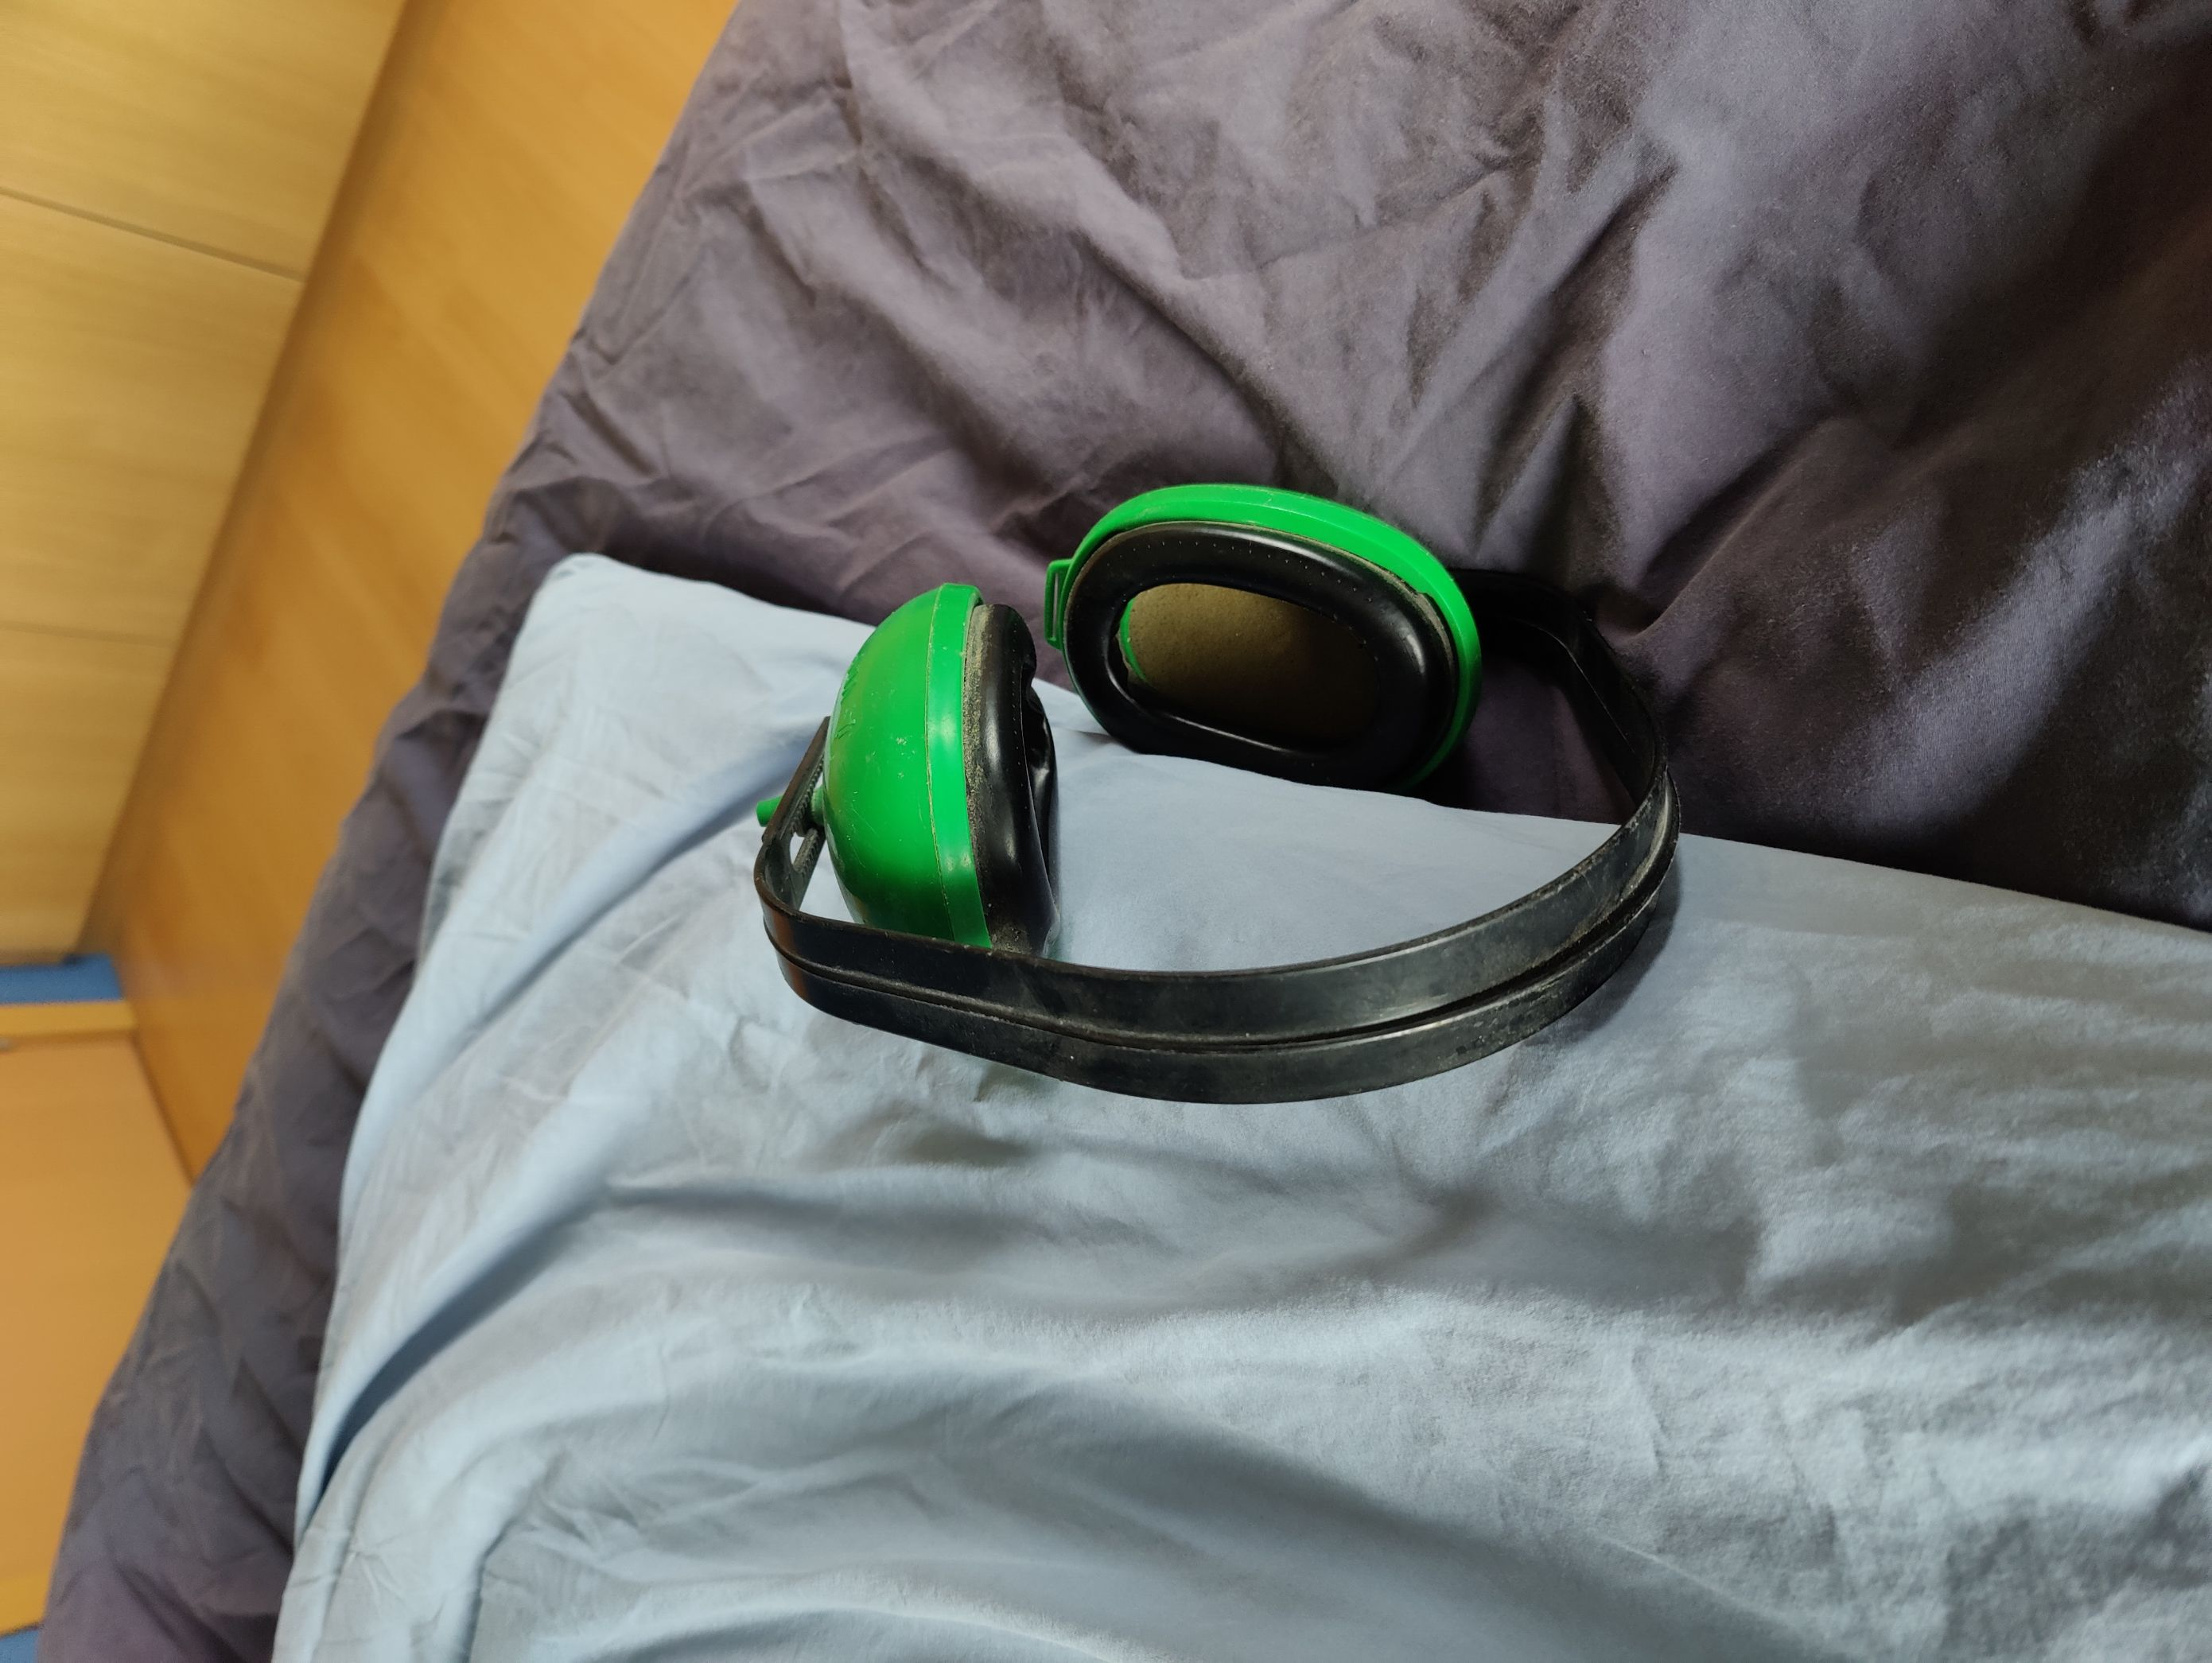headphones: (755, 486, 1688, 1113)
